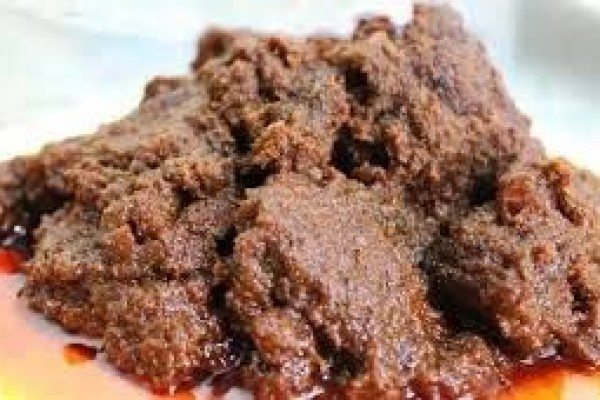rendang: (17, 23, 589, 384)
